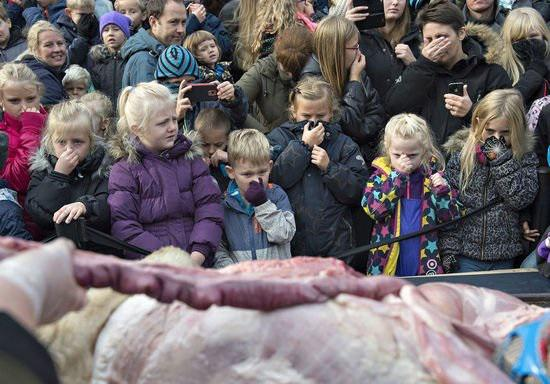NONE: (297, 102, 330, 138), (6, 89, 40, 123), (56, 133, 90, 167), (148, 113, 179, 148), (391, 142, 423, 174), (239, 162, 271, 194), (484, 122, 515, 155), (423, 31, 456, 62), (339, 35, 364, 72), (41, 39, 70, 68), (200, 134, 228, 163), (163, 15, 188, 47), (116, 2, 144, 30), (71, 5, 96, 29), (65, 81, 89, 103), (198, 40, 219, 64), (384, 1, 407, 22), (104, 25, 123, 48)
OK: (513, 25, 543, 56)
